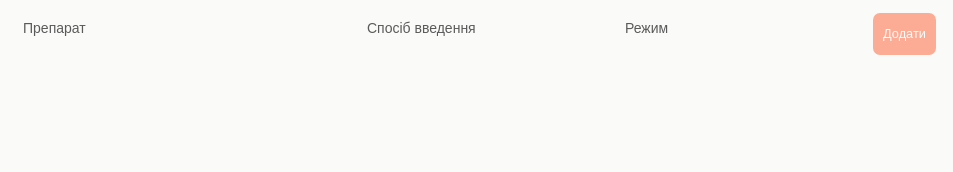
Scenario: PrescriptionItemForm › surfaces a fetch error without blocking submit
The width and height of the screenshot is (953, 172).
Step 1. Type "Pen" into the field with placeholder "Препарат" → (180, 28), box [12,12,348,44]
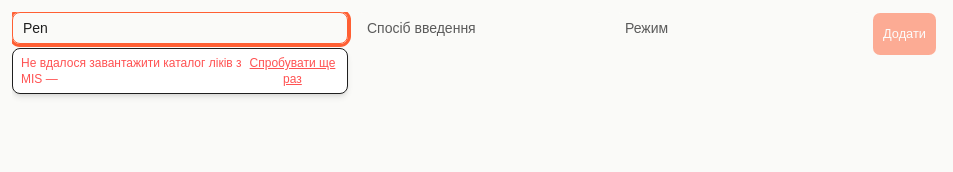
Now the text "Не вдалося завантажити каталог ліків з MIS" is shown, box [21,56,242,86]
Now the button "Спробувати ще раз" is shown, box [246,55,339,87]
